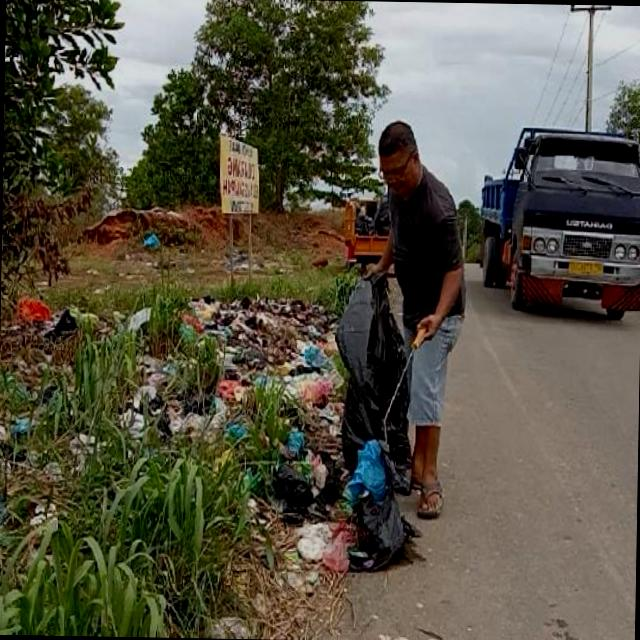garbage: (89, 270, 408, 570)
